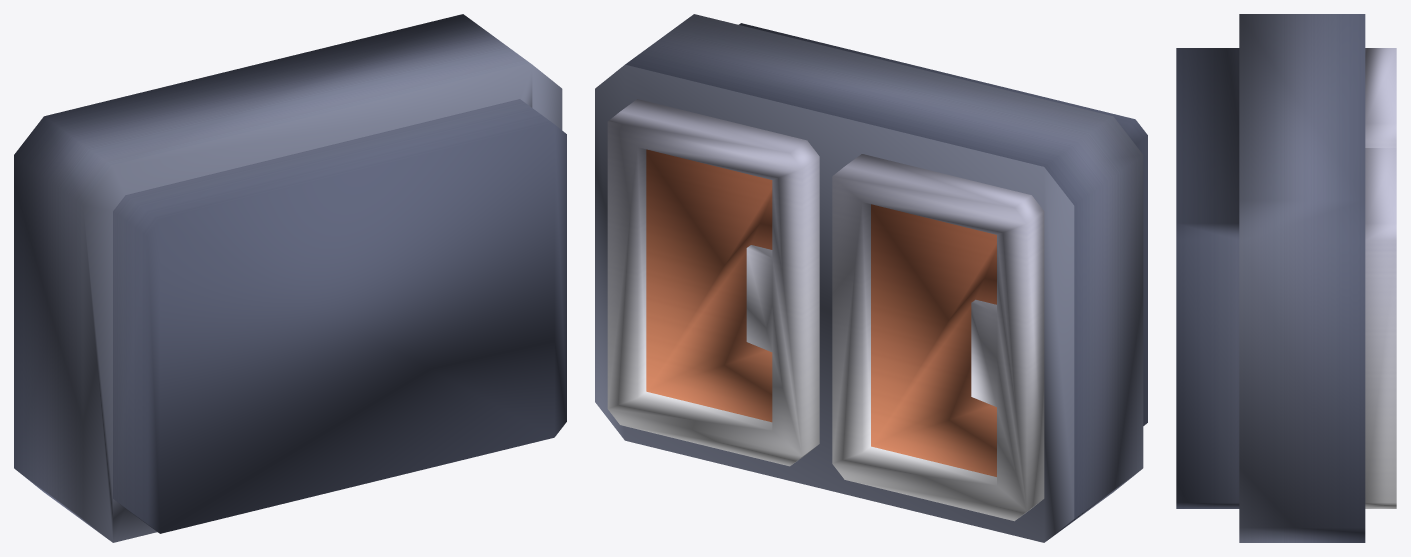
Rendered from freezer.001.obj.
3 renders of one model, left to right at view 1: azimuth 30°, elevation 25°; view 2: azimuth 150°, elevation 25°; view 3: azimuth 270°, elevation 25°, orthographic. The views are drawn at different scales.
Parts seen in each view (by area): view 1: freezer.001; view 2: freezer.001; view 3: freezer.001.
Part boxes in pixels (<box>): freezer.001: <box>14,14,566,542</box>; freezer.001: <box>595,14,1147,542</box>; freezer.001: <box>1176,14,1396,542</box>.
Size of the model in its own units: 0.8 by 0.6 by 0.35.
